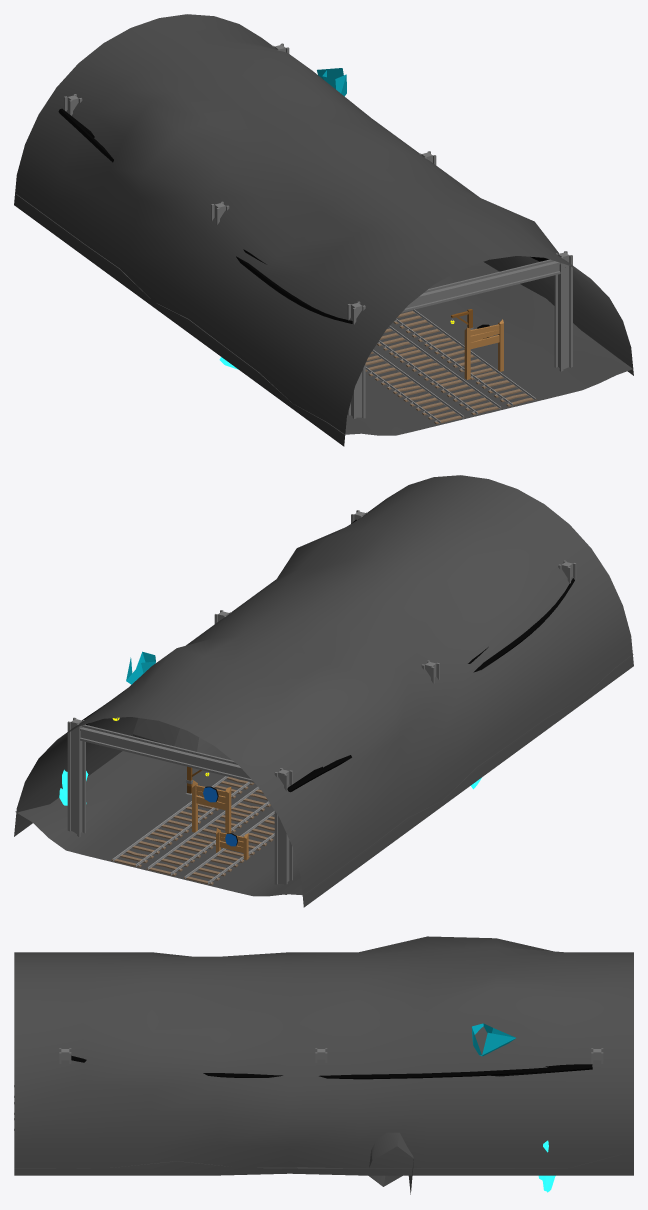
The model's file is Modulo V3 Obstaculos.fbx.
3 renders of one model, top to bottom at view 1: azimuth 30°, elevation 25°; view 2: azimuth 150°, elevation 25°; view 3: azimuth 270°, elevation 25°, orthographic. The views are drawn at different scales.
Parts seen in each view (by area): view 1: Cube.032; view 2: Cube.032; view 3: Cube.032.
Part boxes in pixels (x1=…): Cube.032: x1=14, y1=14, x2=633, y2=446; Cube.032: x1=14, y1=475, x2=633, y2=907; Cube.032: x1=14, y1=936, x2=633, y2=1194.
Bounding box in the file's own units: 2545 × 1466 × 4762.
